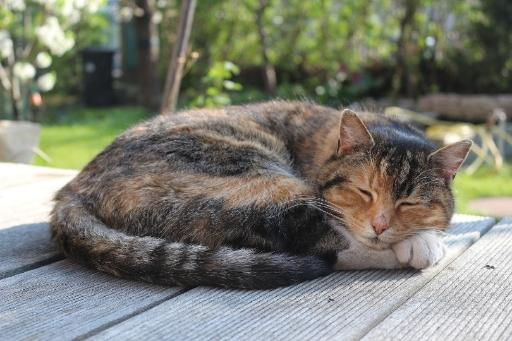cat_sleeping: (49, 101, 472, 289)
